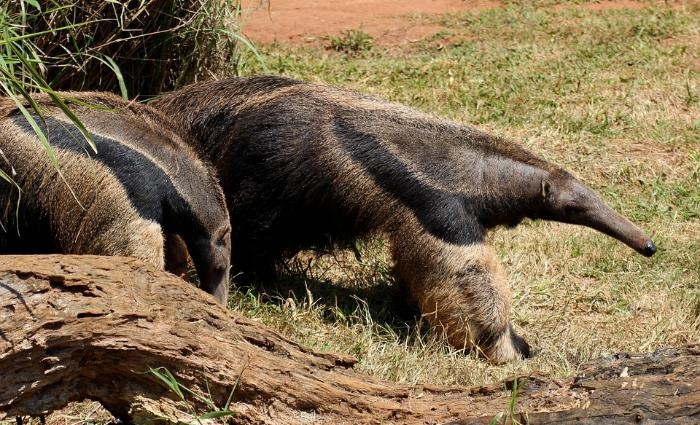TamanduaBandeira: (143, 67, 662, 369), (4, 87, 236, 318)
